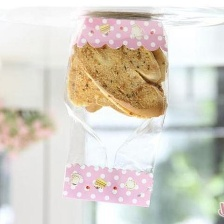snack: (52, 7, 177, 212)
